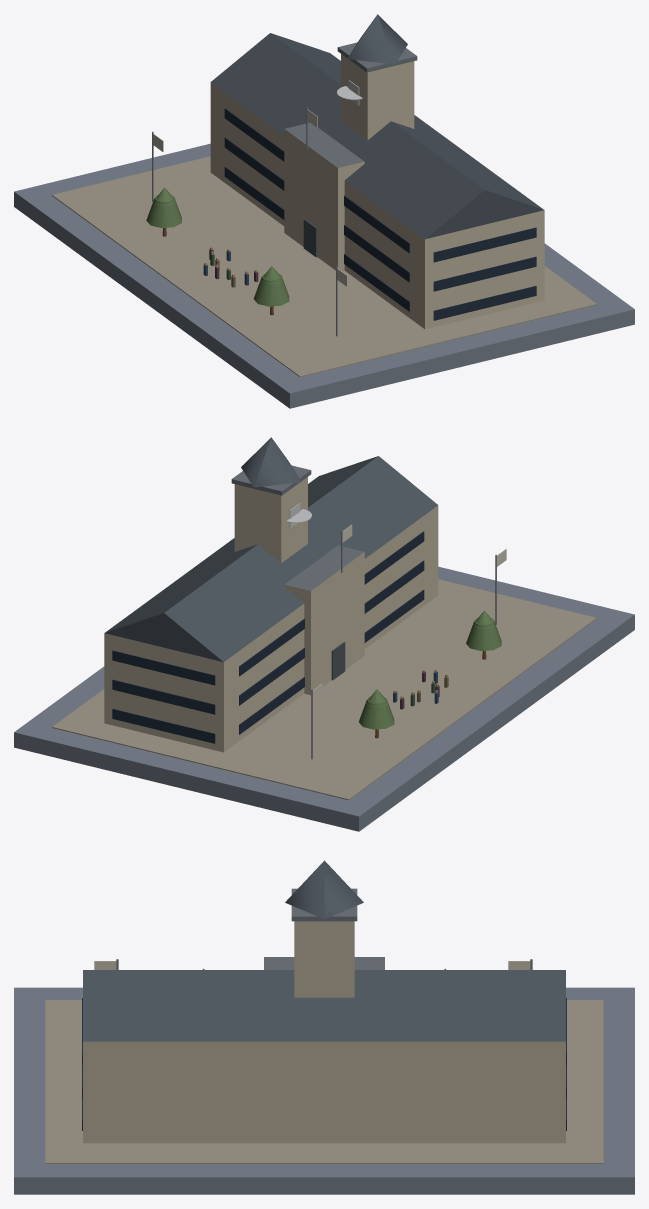
Rendered from town_hall.glb.
3 renders of one model, top to bottom at view 1: azimuth 30°, elevation 25°; view 2: azimuth 150°, elevation 25°; view 3: azimuth 270°, elevation 25°, orthographic. The views are drawn at different scales.
Parts seen in each view (by area): view 1: town_hall; view 2: town_hall; view 3: town_hall.
Part boxes in pixels (x1,y1,x2,y2): town_hall: (14, 14, 634, 408); town_hall: (14, 437, 634, 831); town_hall: (14, 860, 634, 1194).
Bounding box in the file's own units: 52 × 34.35 × 72.
